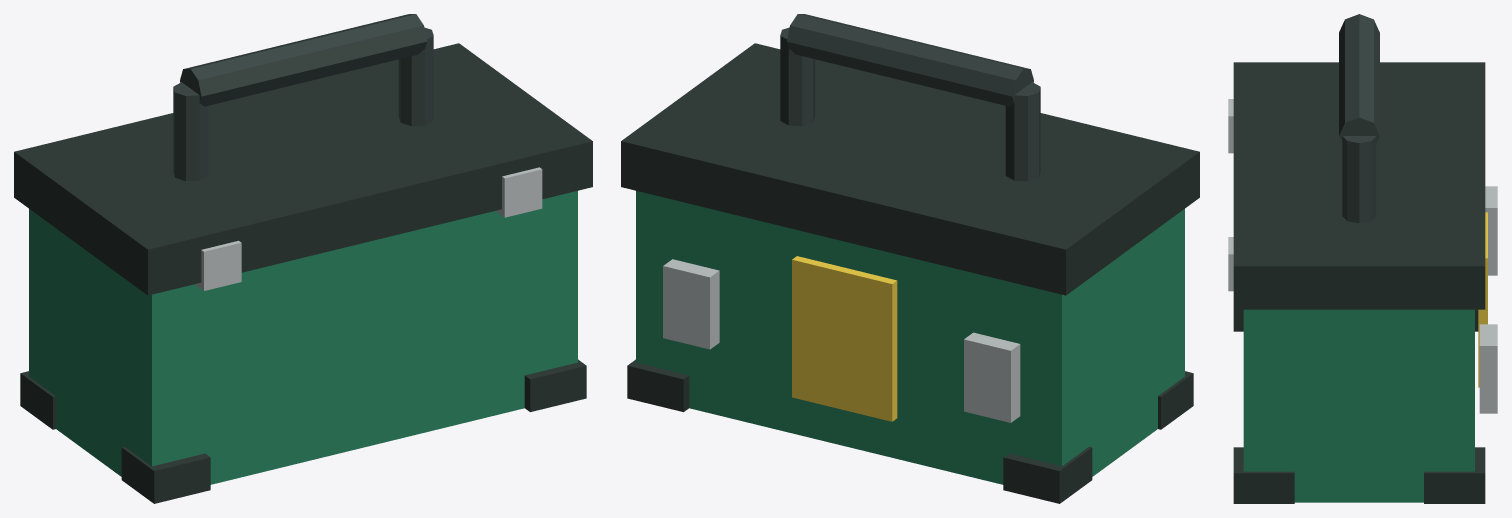
The model's file is HomebaseToolbox_LOD00.gltf.
3 renders of one model, left to right at view 1: azimuth 30°, elevation 25°; view 2: azimuth 150°, elevation 25°; view 3: azimuth 270°, elevation 25°, orthographic. The views are drawn at different scales.
Parts seen in each view (by area): view 1: HomebaseToolbox_node; view 2: HomebaseToolbox_node; view 3: HomebaseToolbox_node.
Part boxes in pixels (left/top/right/bottom): HomebaseToolbox_node: left=14, top=14, right=592, bottom=503; HomebaseToolbox_node: left=621, top=14, right=1199, bottom=503; HomebaseToolbox_node: left=1228, top=14, right=1497, bottom=503.
Size of the model in its own units: 0.71 by 0.58 by 0.3955.
